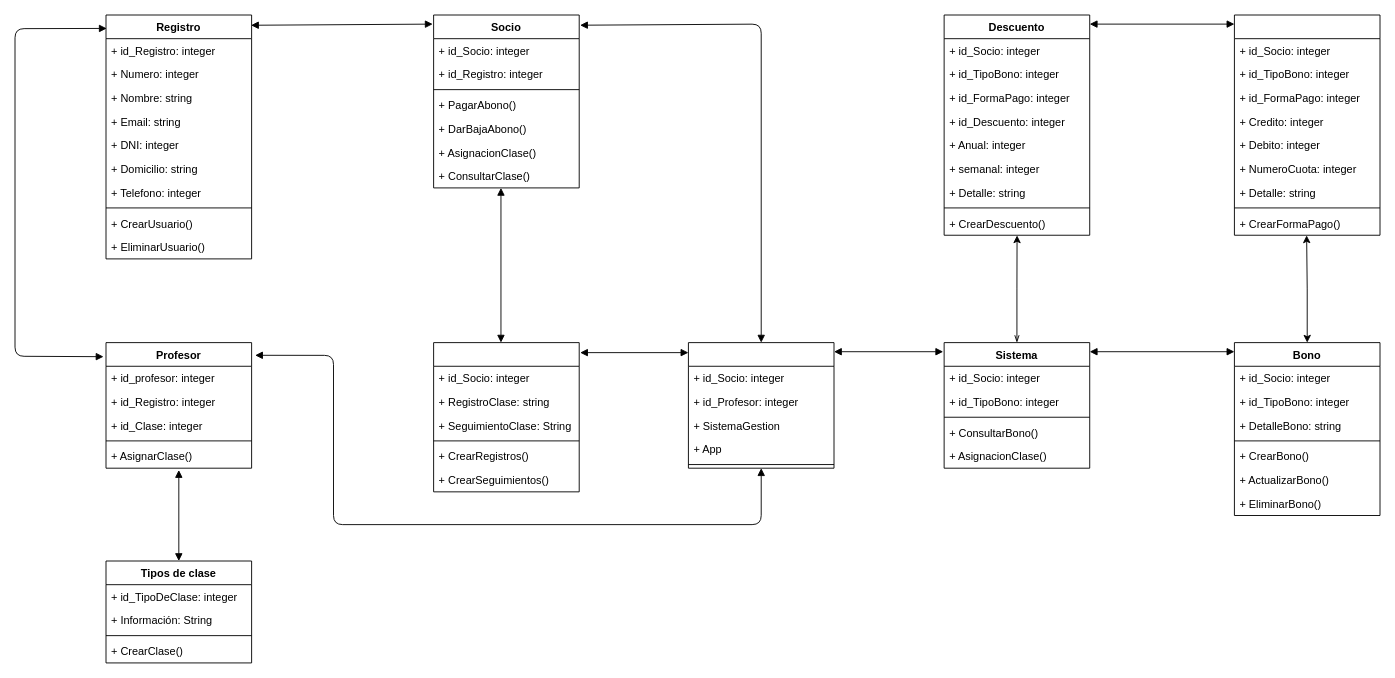
This 1395x678 diagram has some shape labels left out. The box of each missing label's shape, as (x1, y1, x2, y2) in pixels:
AdmGim: (688, 342, 834, 468)
APP: (433, 342, 579, 492)
Forma de pago: (1234, 14, 1380, 235)
